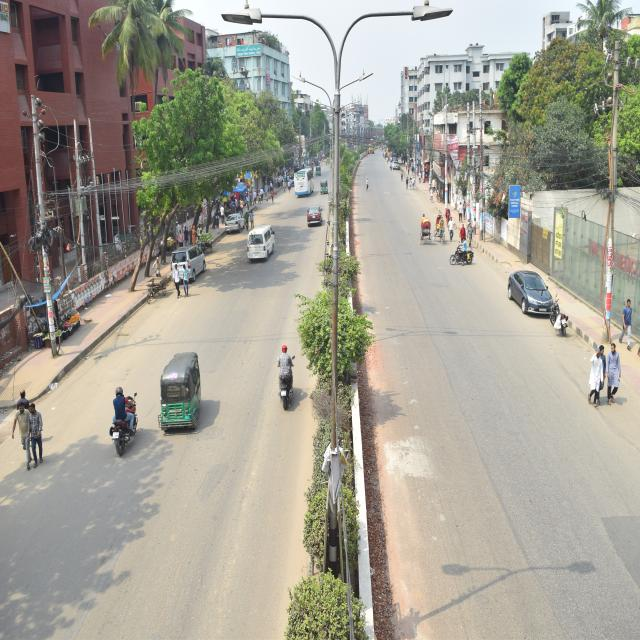bus: (291, 159, 318, 201)
car: (500, 258, 552, 314), (304, 202, 324, 230), (222, 216, 245, 238)
microbus: (167, 239, 209, 294), (244, 221, 280, 262)
motorbike: (104, 389, 146, 465), (270, 341, 308, 417), (544, 292, 574, 338), (447, 244, 477, 270)
